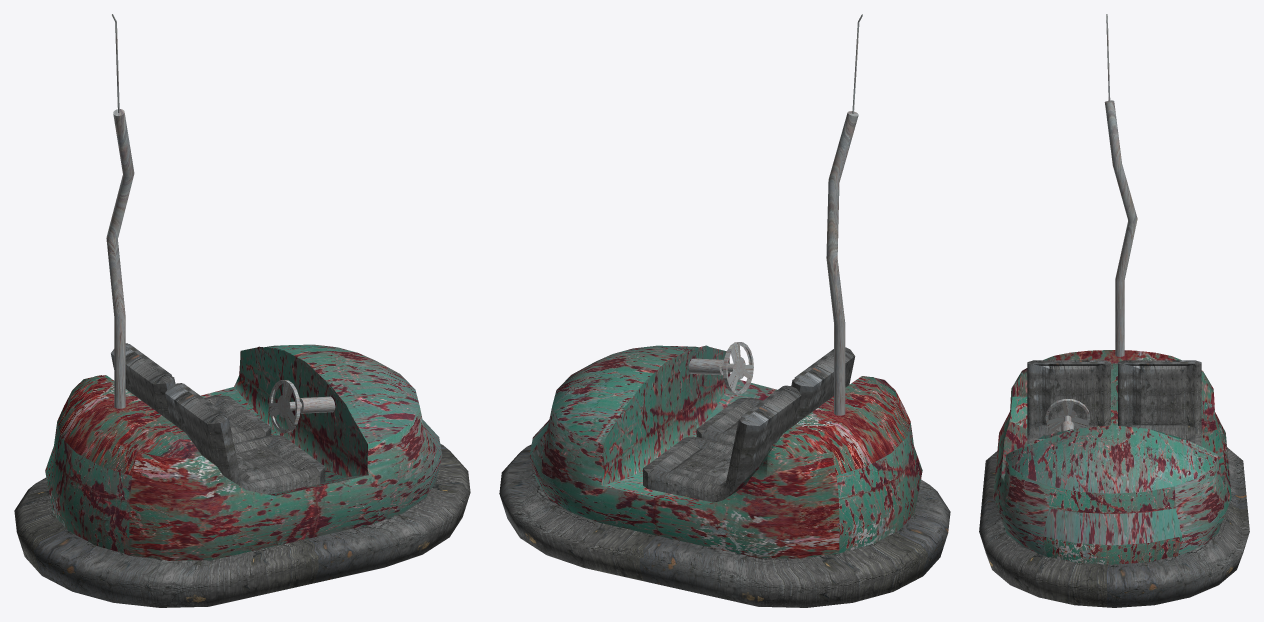
Rendered from Bumpercart.FBX.
3 views of the same model, side by side, from view 1: azimuth 30°, elevation 25°; view 2: azimuth 150°, elevation 25°; view 3: azimuth 270°, elevation 25° (orthographic). The views are drawn at different scales.
Visible parts, largest first — view 1: Body, Rubber, Seat, Antena thing, Cylinder001; view 2: Body, Rubber, Seat, Antena thing, Cylinder001; view 3: Body, Rubber, Seat, Antena thing, Cylinder001.
Boxes of the visible parts, x1=… form: Body: x1=45, y1=344, x2=442, y2=560; Rubber: x1=14, y1=444, x2=470, y2=607; Seat: x1=111, y1=343, x2=325, y2=494; Antena thing: x1=106, y1=14, x2=134, y2=408; Cylinder001: x1=269, y1=380, x2=335, y2=432; Body: x1=529, y1=345, x2=922, y2=558; Rubber: x1=499, y1=444, x2=950, y2=607; Seat: x1=643, y1=347, x2=855, y2=502; Antena thing: x1=826, y1=14, x2=862, y2=415; Cylinder001: x1=688, y1=342, x2=753, y2=394; Body: x1=993, y1=350, x2=1231, y2=564; Rubber: x1=979, y1=447, x2=1249, y2=607; Seat: x1=1027, y1=360, x2=1201, y2=446; Antena thing: x1=1104, y1=14, x2=1137, y2=356; Cylinder001: x1=1045, y1=399, x2=1089, y2=432.
Bounding box in the file's own units: 35.34 × 45.55 × 23.94.
Materials: 3 (3 with a texture image).
